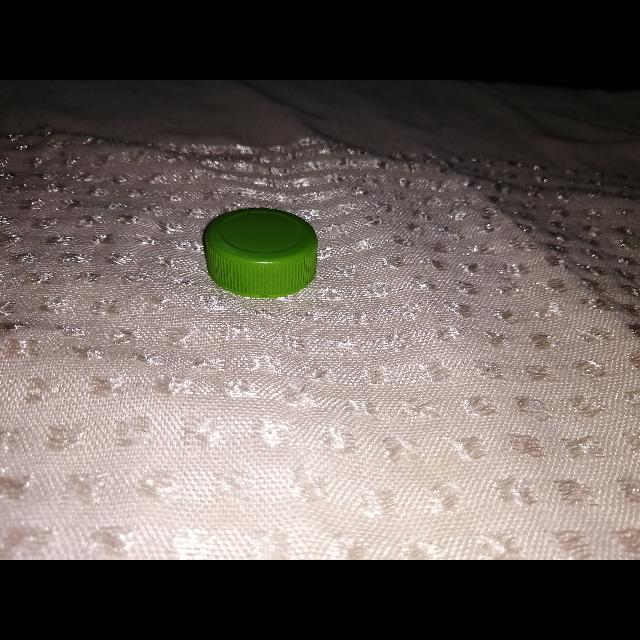plastic_bottle_cap: (202, 207, 318, 299)
